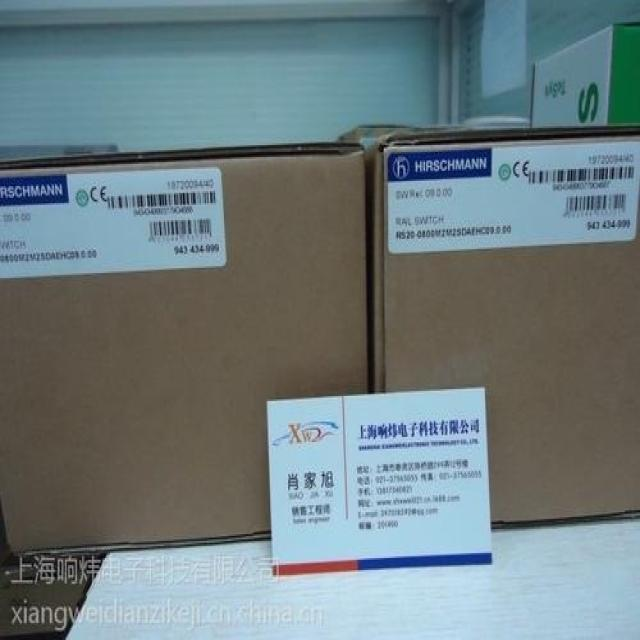box: (0, 140, 370, 563), (365, 126, 639, 527)
